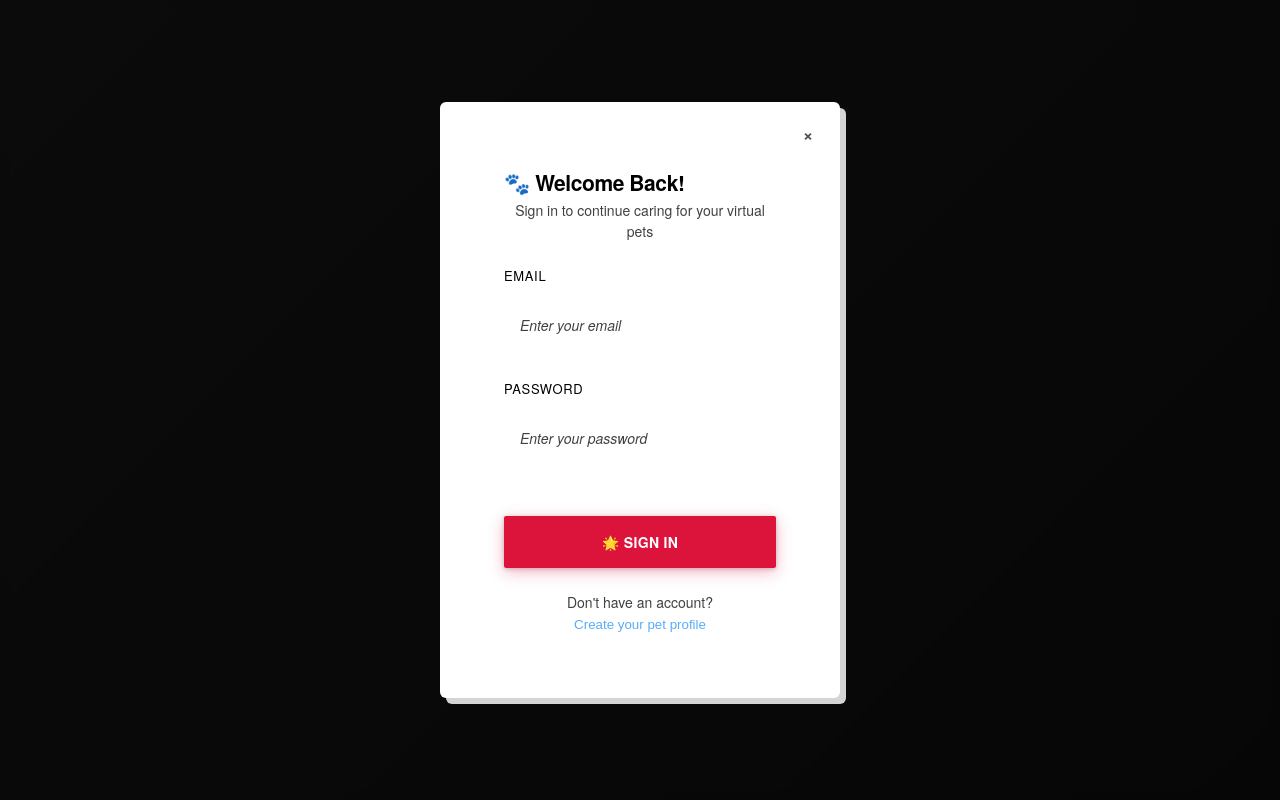
Test case: AuthModal UI Tests › Modal Rendering and Controls › should switch between login and register forms
Expected: the heading "🐾 Welcome Back!" is shown, [504,167,684,197]
Note: Switch to register
Step 1. Click the button "Create your pet profile" → (640, 624), box [574,617,706,632]
(page scrolled)
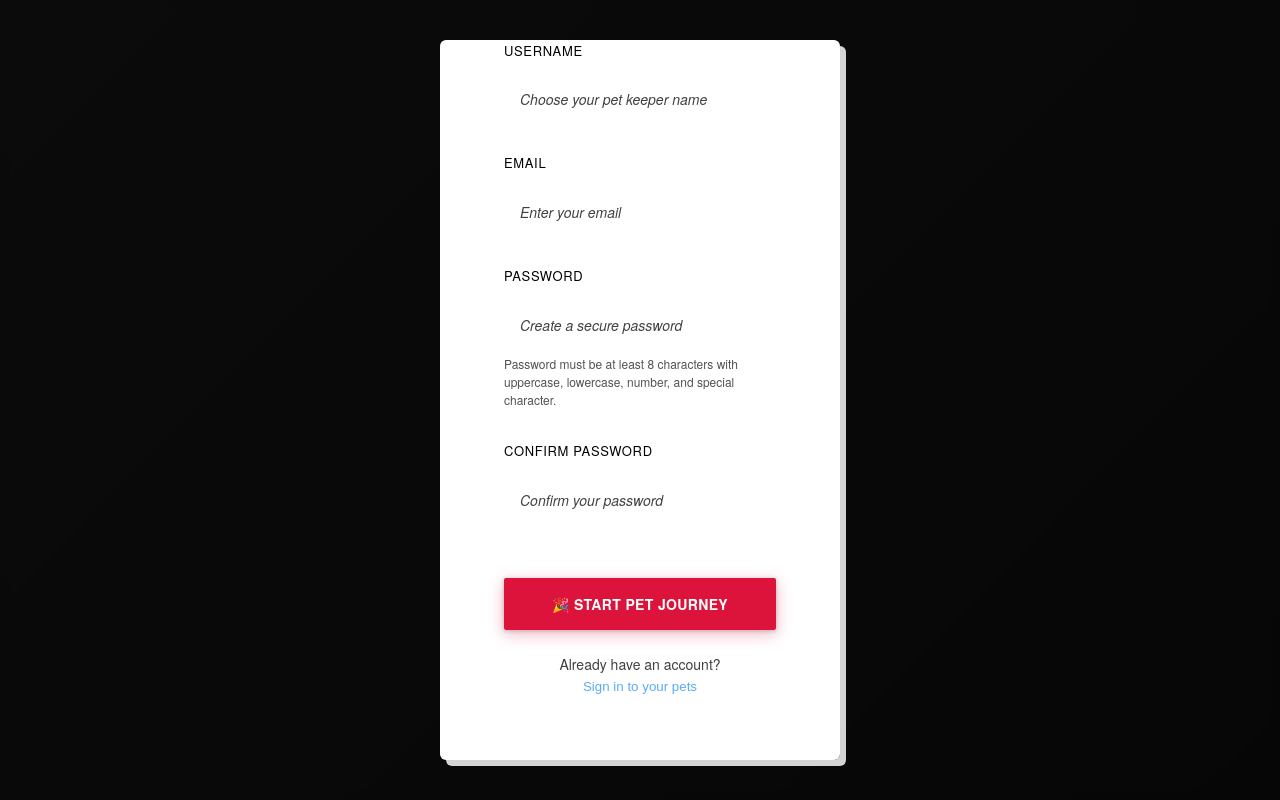
Expected: the field labelled "Username" is shown, [504,77,776,121]
Note: Switch back to login
Step 2. Click the button "Sign in to your pets" → (640, 686), box [583,679,697,694]
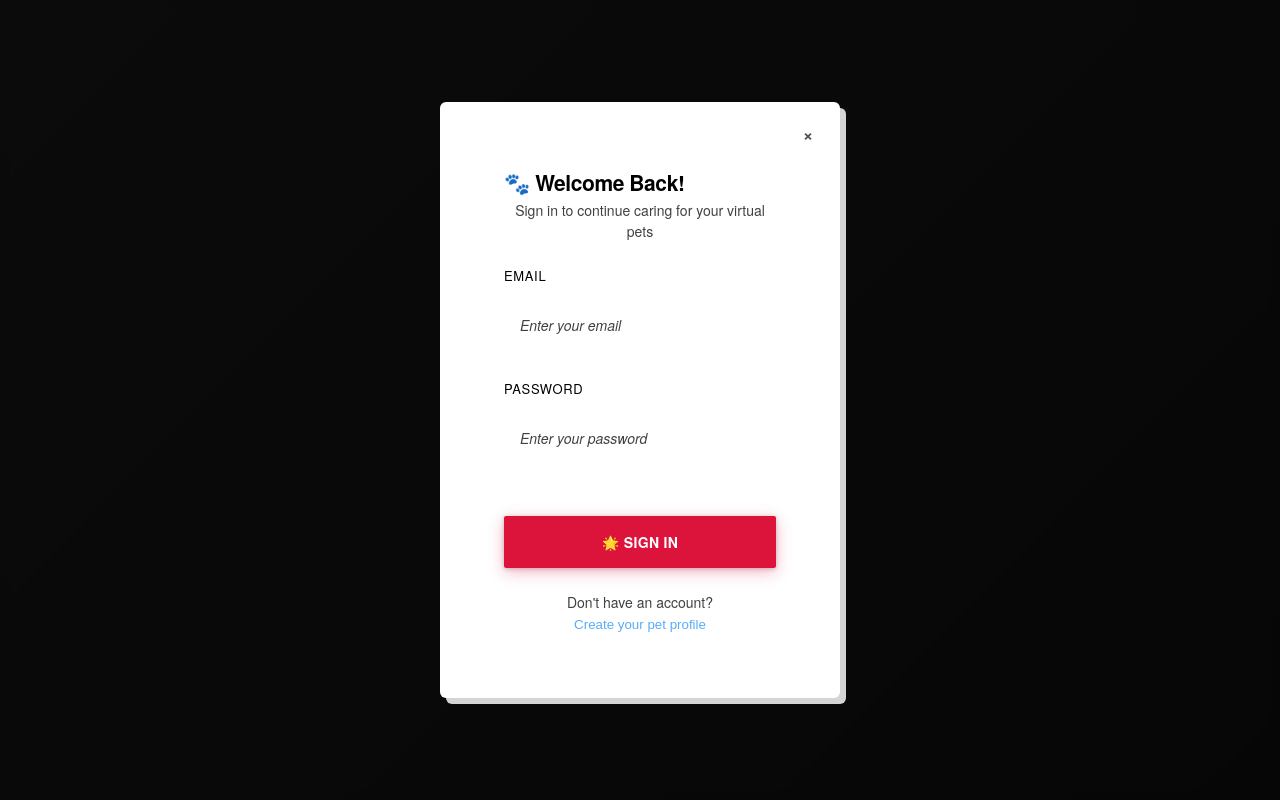
Expected: the heading "🐾 Welcome Back!" is shown, [504,167,684,197]
